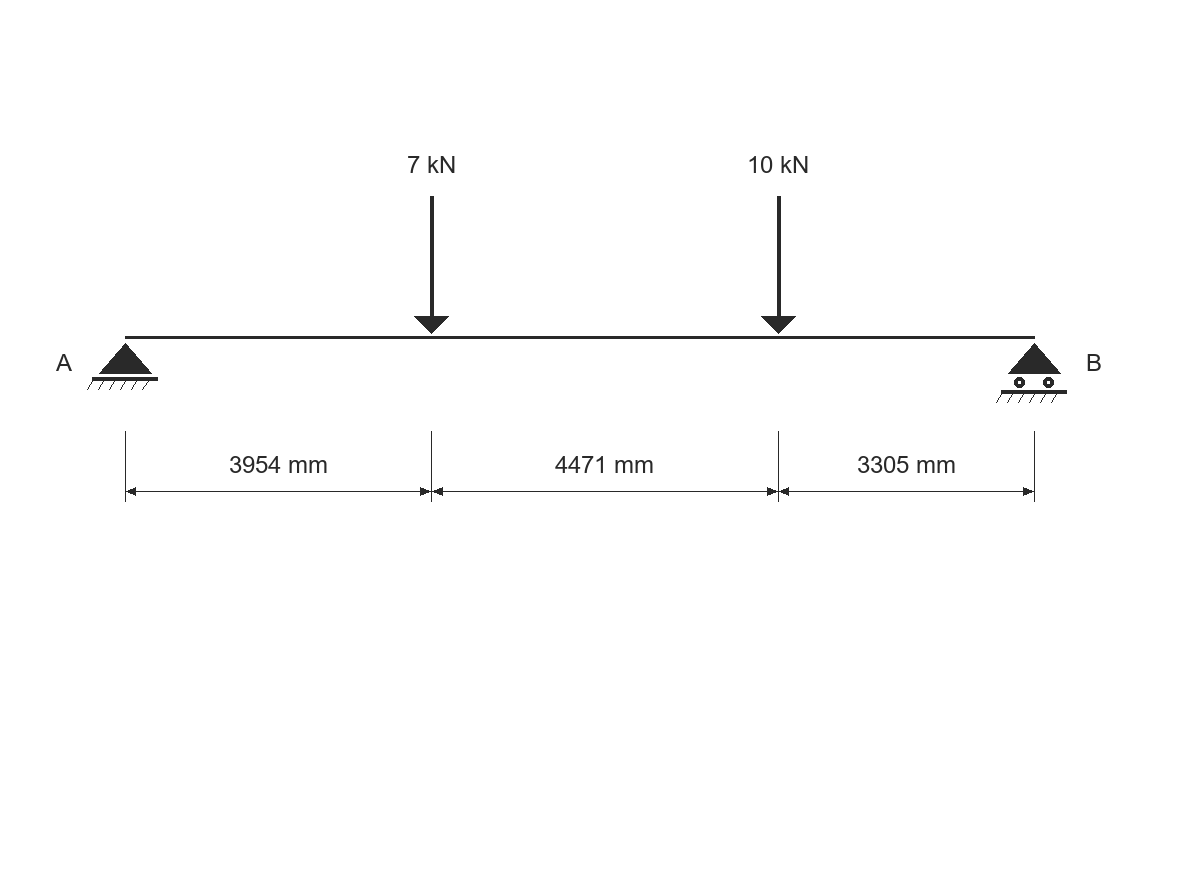pin_support: (87, 343, 158, 390)
point_load: (414, 196, 449, 334), (761, 196, 796, 334)
roller_support: (996, 343, 1067, 403)
